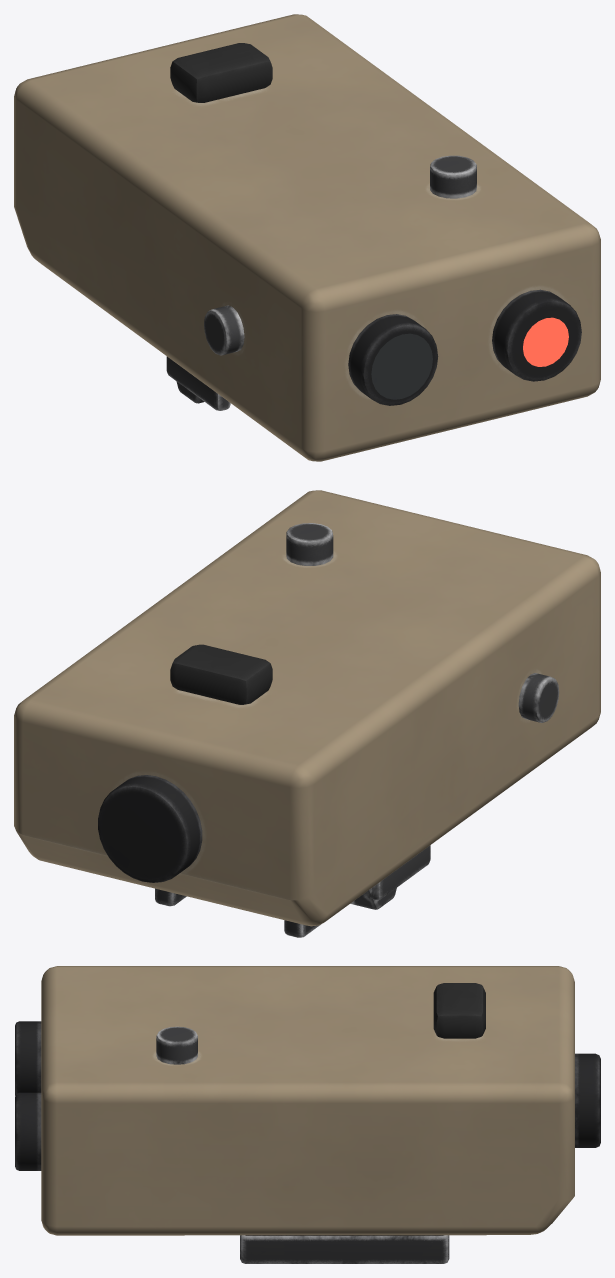
The model's file is laser_box.glb.
3 views of the same model, one above another, from view 1: azimuth 30°, elevation 25°; view 2: azimuth 150°, elevation 25°; view 3: azimuth 270°, elevation 25° (orthographic). The views are drawn at different scales.
Parts seen in each view (by area): view 1: body, illum_lens, laser_lens; view 2: body; view 3: body.
Boxes of the visible parts, x1,y1,x2,y2 form: body: (14,14,600,461); illum_lens: (371,334,432,399); laser_lens: (523,317,568,366); body: (14,490,600,937); body: (15,966,600,1263).
Bounding box in the file's own units: 0.0615 × 0.0502 × 0.1122.
3 materials, 1 textured.
